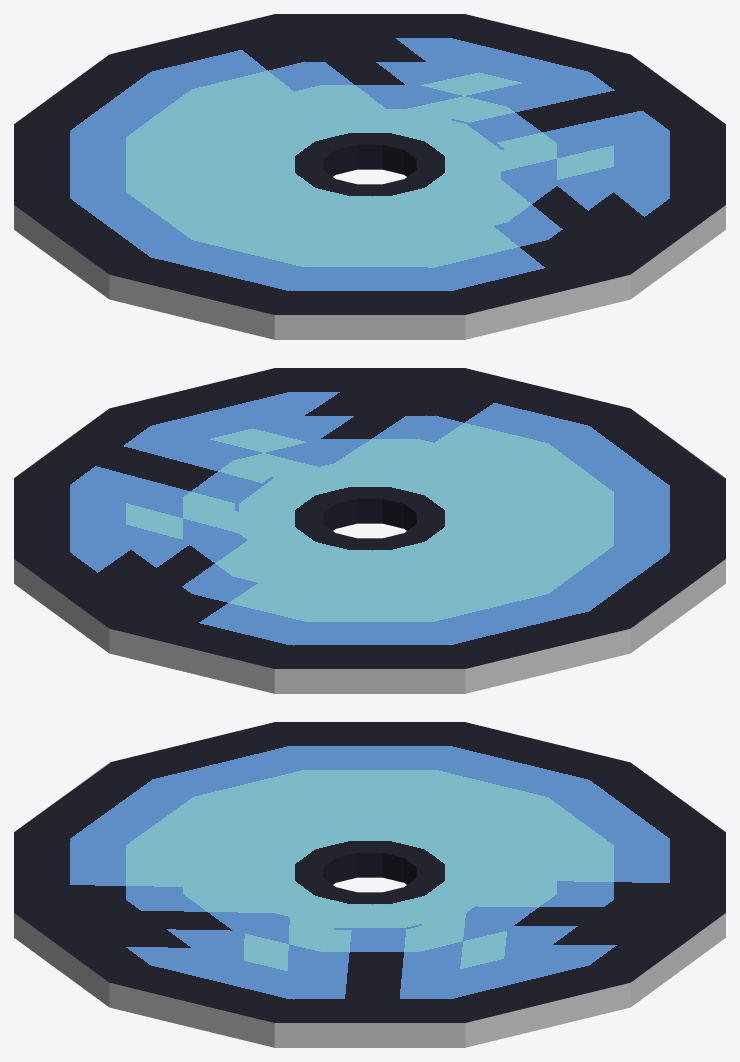
Rendered from disc_fishing_game.gltf.
3 views of the same model, one above another, from view 1: azimuth 30°, elevation 25°; view 2: azimuth 150°, elevation 25°; view 3: azimuth 270°, elevation 25° (orthographic).
Visible parts, largest first — view 1: Disc; view 2: Disc; view 3: Disc.
Part boxes in pixels (x1,y1,x2,y2): Disc: [14, 14, 725, 339]; Disc: [14, 368, 725, 693]; Disc: [14, 722, 725, 1047].
Bounding box in the file's own units: 0.1625 × 0.00625 × 0.1625.
1 material, 1 textured.
